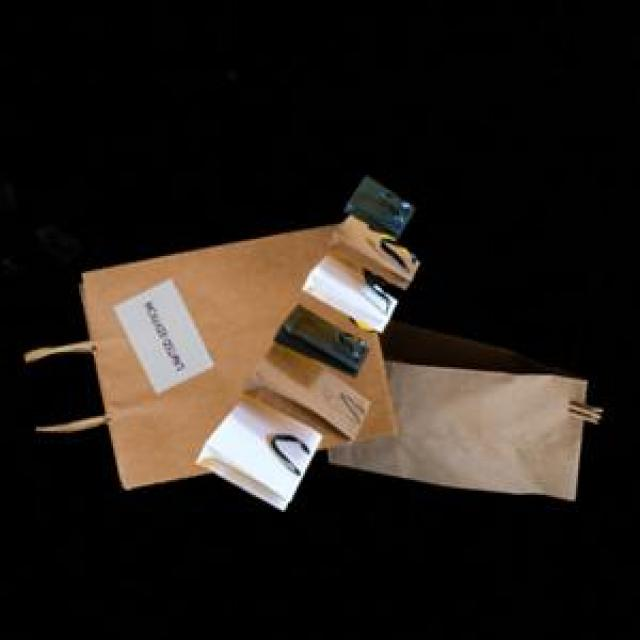Paper -Biodegradable-: (84, 173, 424, 508), (325, 322, 583, 501)
